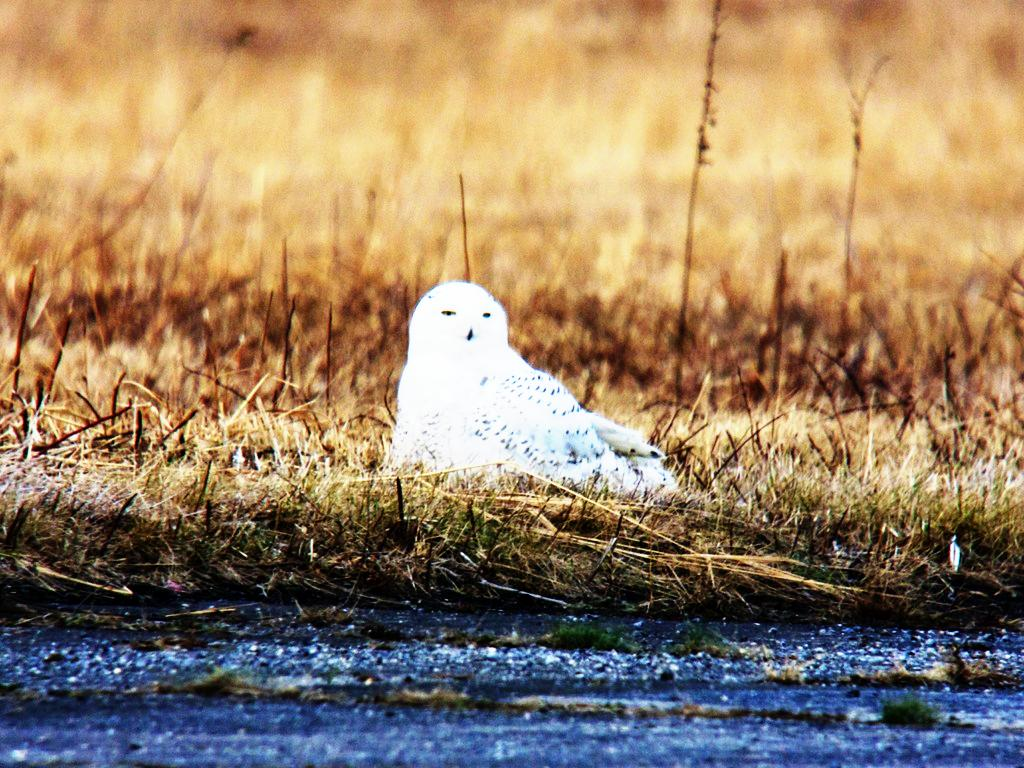Owl: (381, 280, 672, 502)
